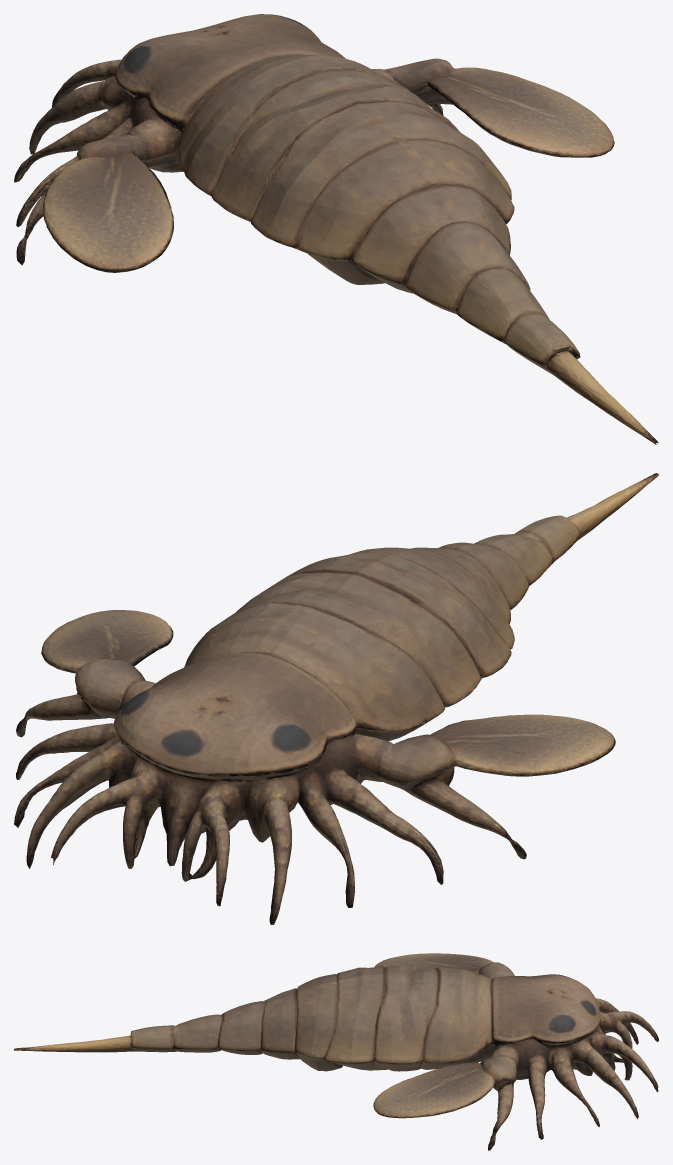
The picture shows the model from 3 angles, top to bottom: view 1: azimuth 30°, elevation 25°; view 2: azimuth 150°, elevation 25°; view 3: azimuth 270°, elevation 25°; orthographic projection. The views are drawn at different scales.
Parts seen in each view (by area): view 1: world; view 2: world; view 3: world.
Part boxes in pixels (x1,y1,x2,y2): world: (14, 14, 658, 444); world: (14, 473, 658, 924); world: (14, 953, 658, 1150).
Size of the model in its own units: 0.5927 by 0.1859 by 1.
1 material, 1 textured.
